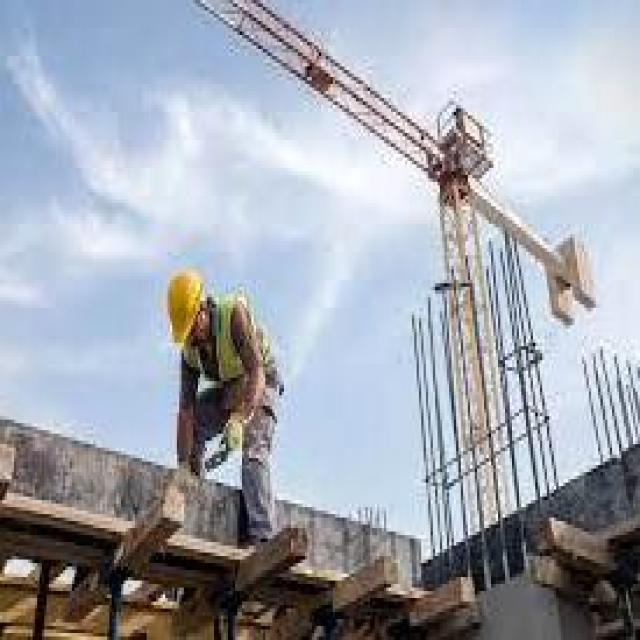Reflective-Jacket: (193, 290, 277, 465), (154, 252, 214, 374)
Safety-Helmet: (154, 255, 214, 371)
